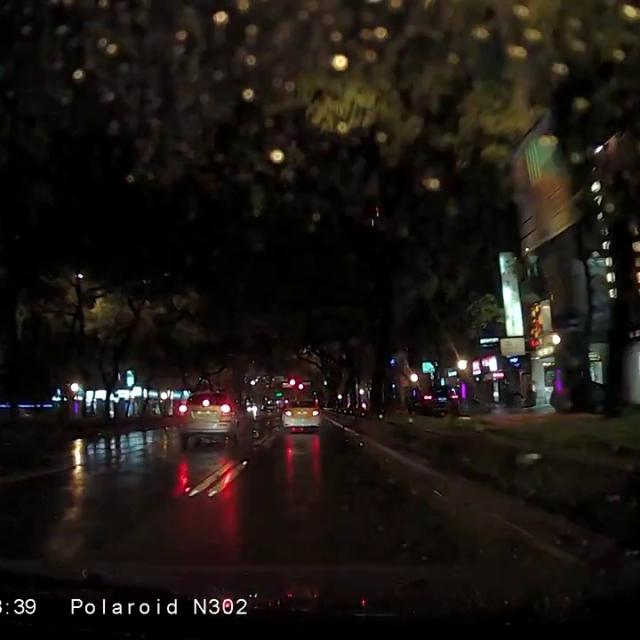Car: (175, 390, 238, 444), (410, 383, 460, 417), (279, 396, 322, 428), (258, 400, 276, 411)
